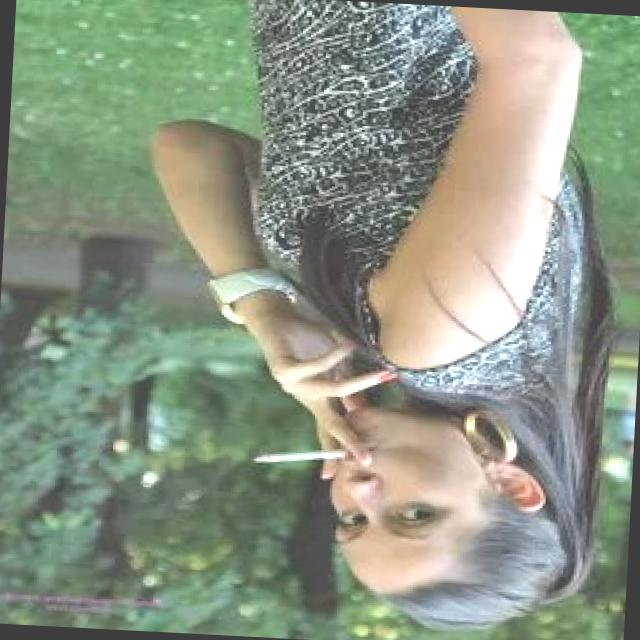cigarette: (248, 434, 356, 476)
